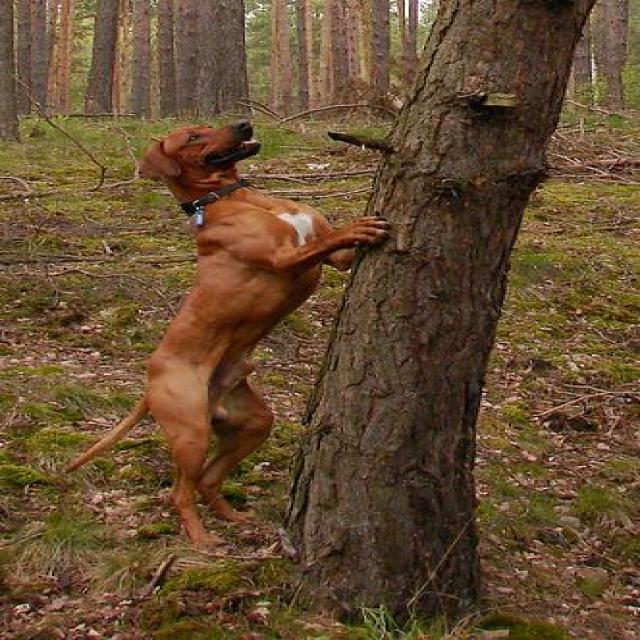rhodesian_ridgeback: (50, 119, 386, 561)
